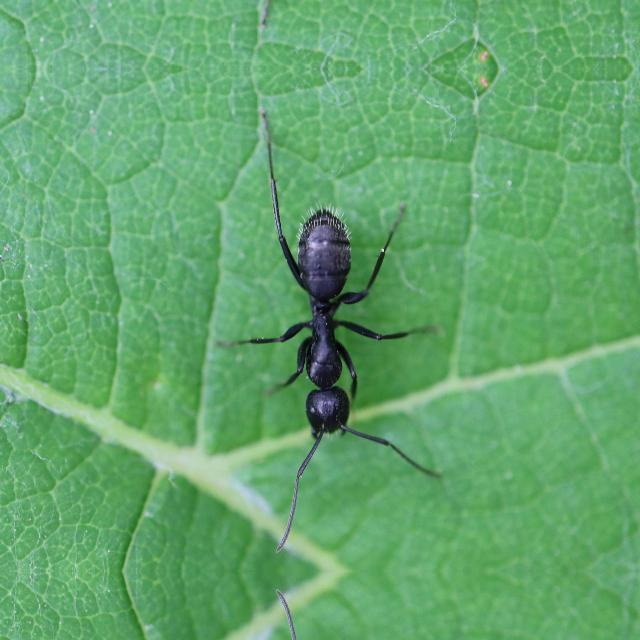Camponotus: (248, 166, 422, 480)
